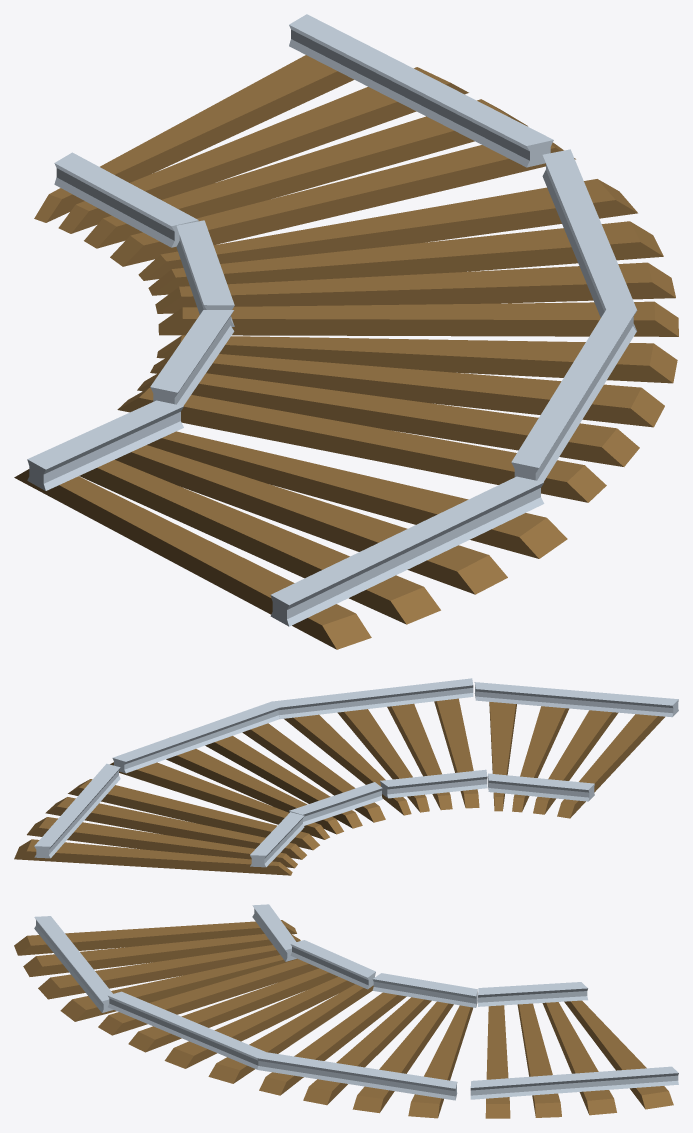
File: TrainTrackCorner.fbx
3 views of the same model, one above another, from view 1: azimuth 30°, elevation 25°; view 2: azimuth 150°, elevation 25°; view 3: azimuth 270°, elevation 25° (orthographic). The views are drawn at different scales.
Parts seen in each view (by area): view 1: TrainTrackCorner; view 2: TrainTrackCorner; view 3: TrainTrackCorner.
Boxes of the visible parts, x1,y1,x2,y2 form: TrainTrackCorner: [14, 14, 678, 649]; TrainTrackCorner: [14, 678, 678, 875]; TrainTrackCorner: [14, 904, 678, 1118].
Size of the model in its own units: 570 by 35.63 by 804.
